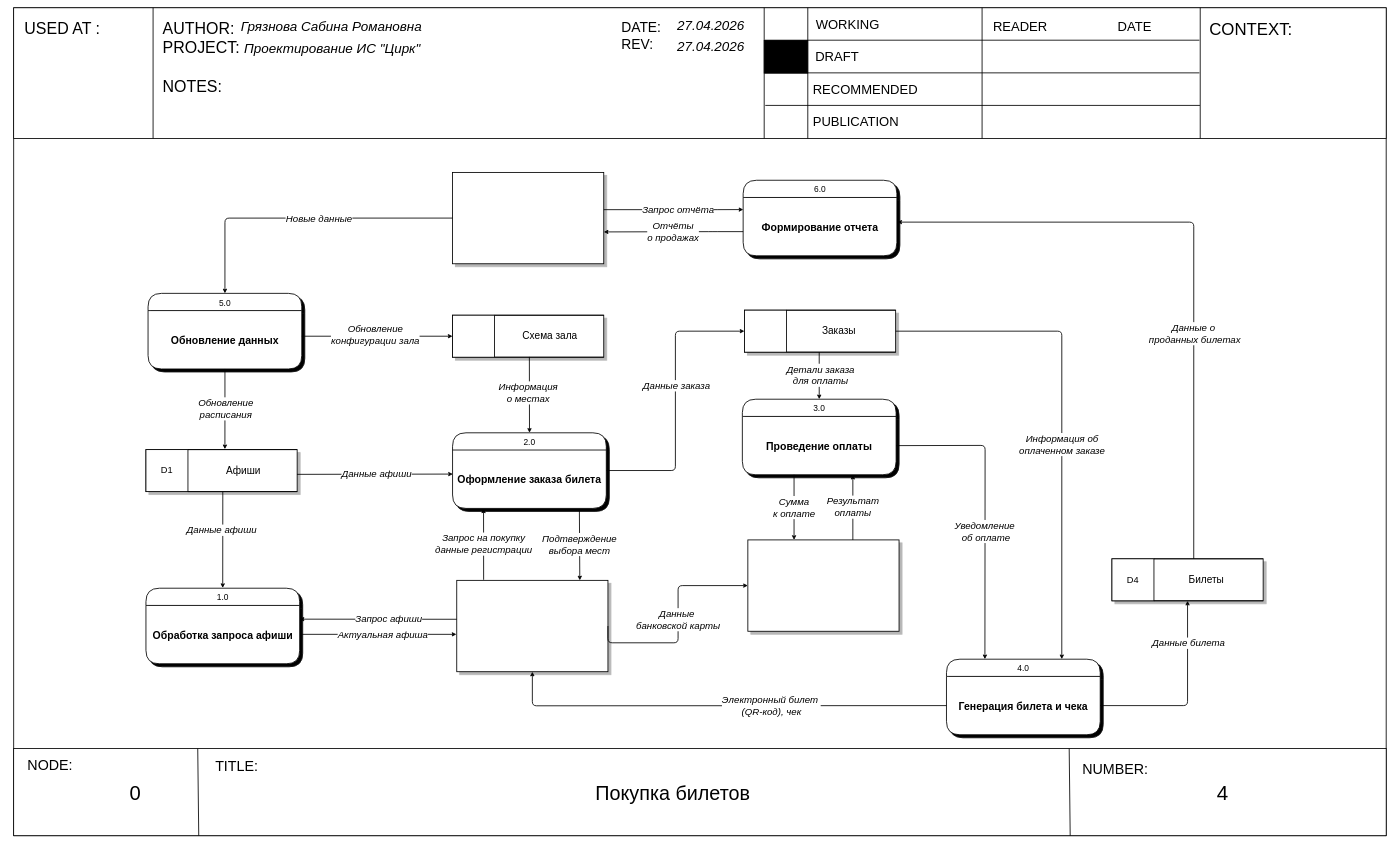
Image size: 1394x844. Some labels were removed from this diagram. Each missing label, with the centre of its shape:
D2: (x=473, y=336)
D3: (x=765, y=331)
Администратор: (x=529, y=219)
Покупатель: (x=533, y=627)
Система оплаты: (x=824, y=586)
